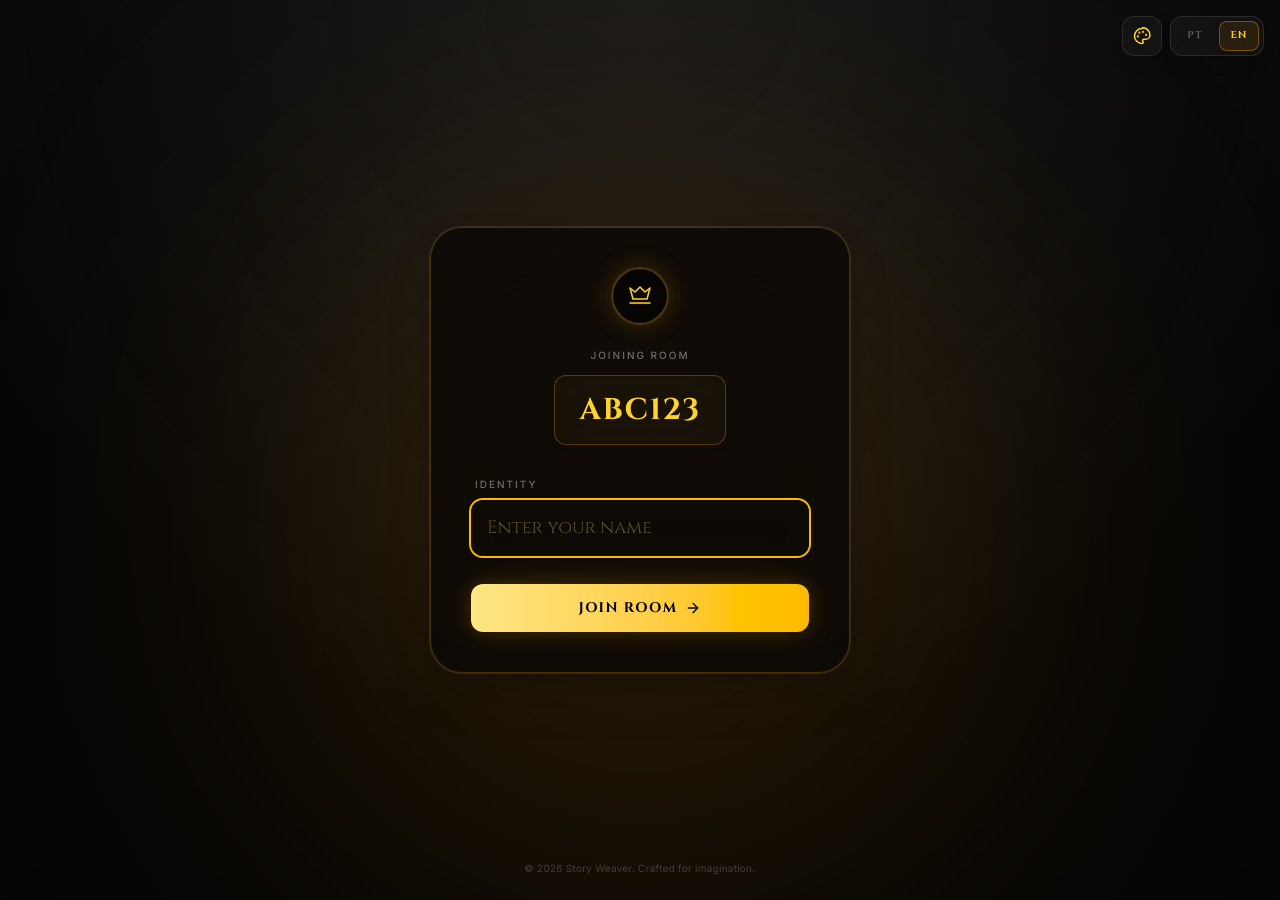
Test: JoinScreen — invite mode join flow › clears error when typing in name input
Click the button "JOIN ROOM" at (640,608), box 471,584 -> 809,632
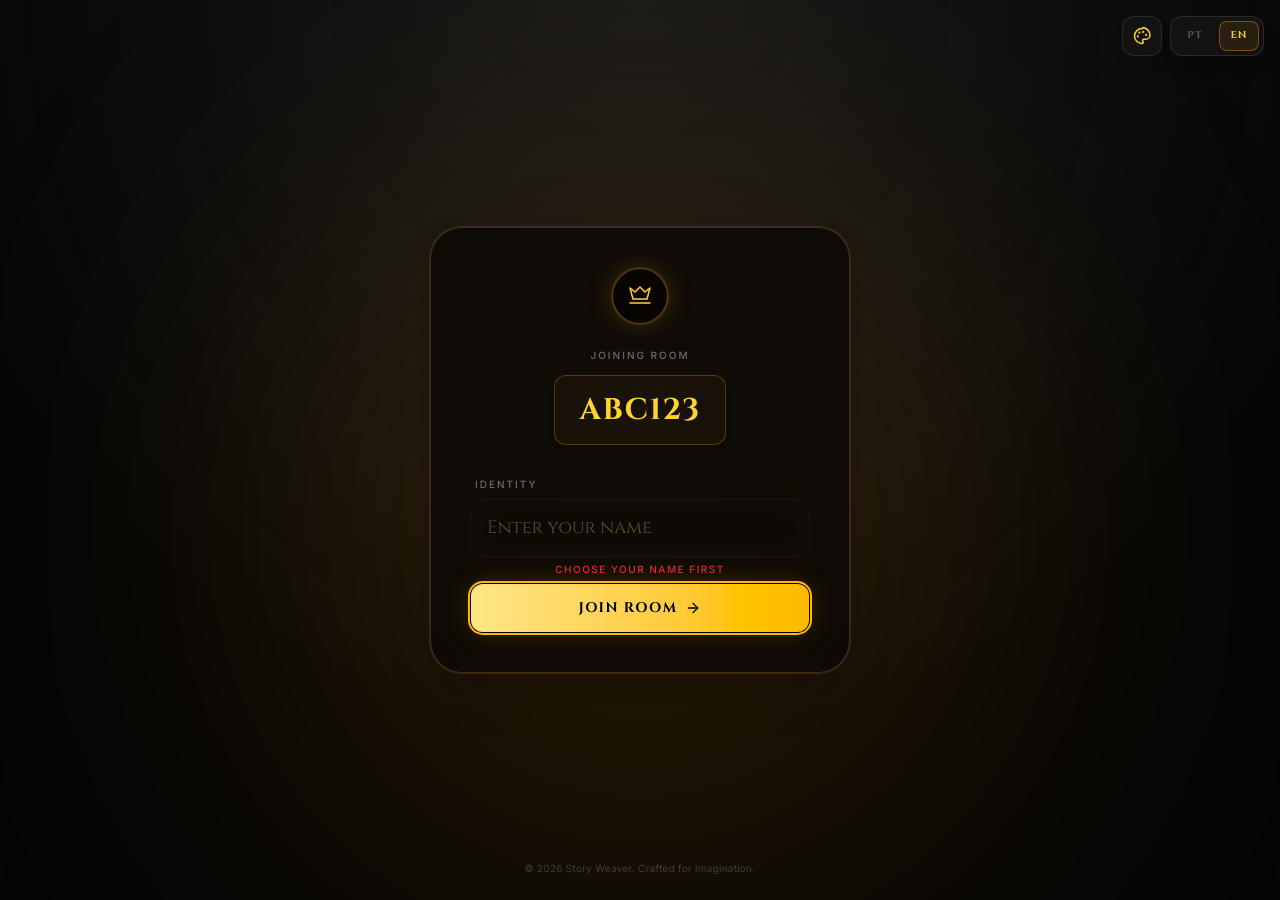
Result: the text "Choose your name first" is shown at 555,562 -> 725,577
Type "A" into the field with placeholder "Enter your name" at (640,528), box 471,500 -> 809,556
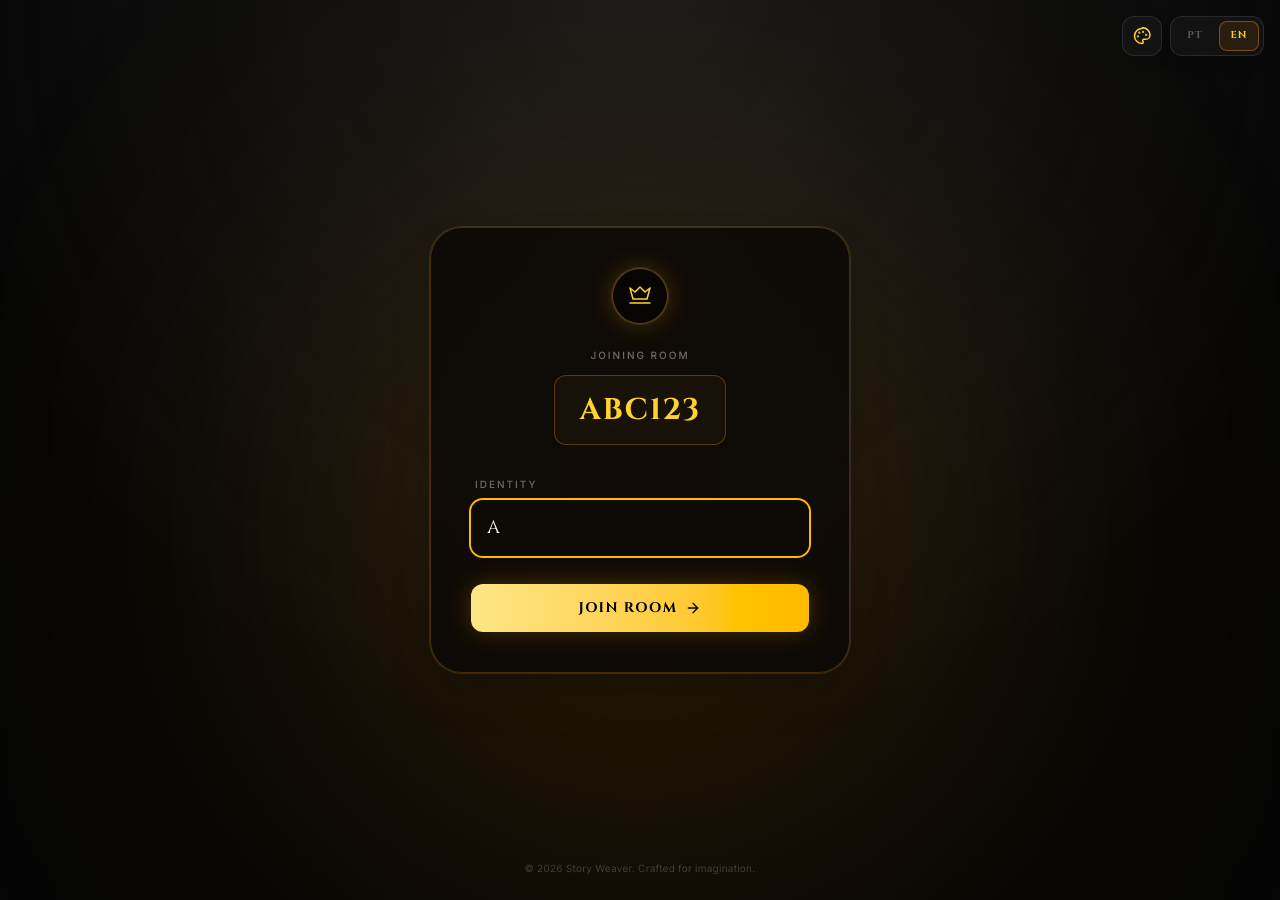
Result: the text "Choose your name first" is gone
